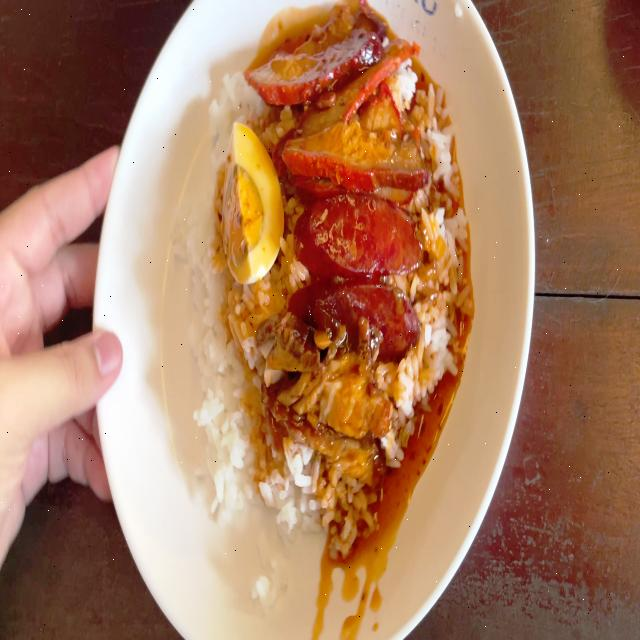boiled_egg: (223, 122, 280, 285)
chainese_sausage: (291, 198, 429, 346)
crispy_pork: (262, 344, 390, 469)
red_pork: (285, 44, 420, 184), (247, 26, 393, 94)
red_pork_and_crispy_pork: (184, 19, 454, 526)
rice: (195, 288, 260, 513)
